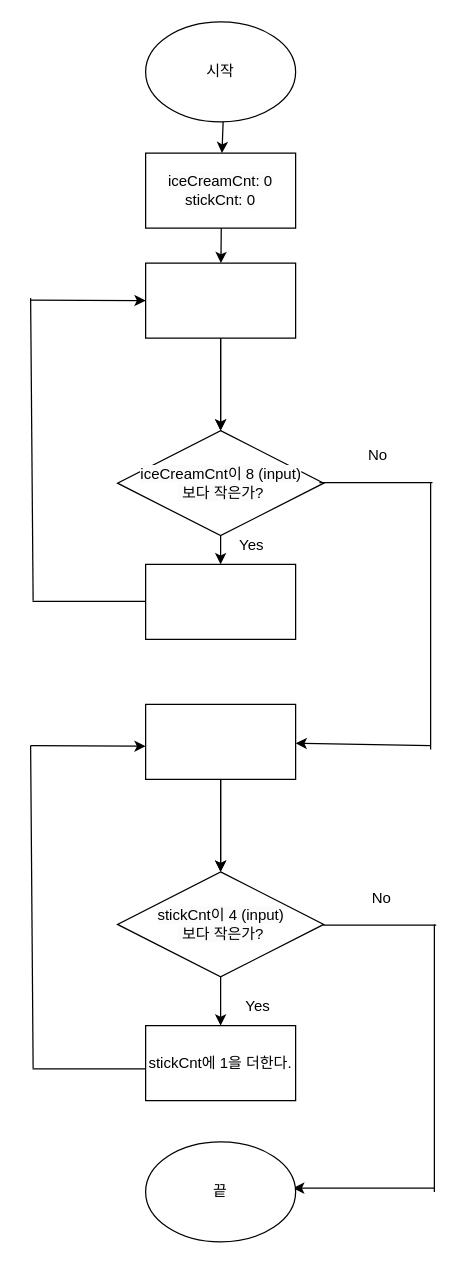
The diagram is 466 pixels wide and 1264 high, and some of its shapes have lost their labels. The shapes that lost their labels are listed below. From the top down, each one's box as (x1, y1, x2, y2) in pixels, then its label:
(144, 262, 296, 338): "***********" 출력
(144, 563, 296, 639): iceCreamCnt에 1을 더한다.
(144, 703, 296, 779): "| | " 출력
